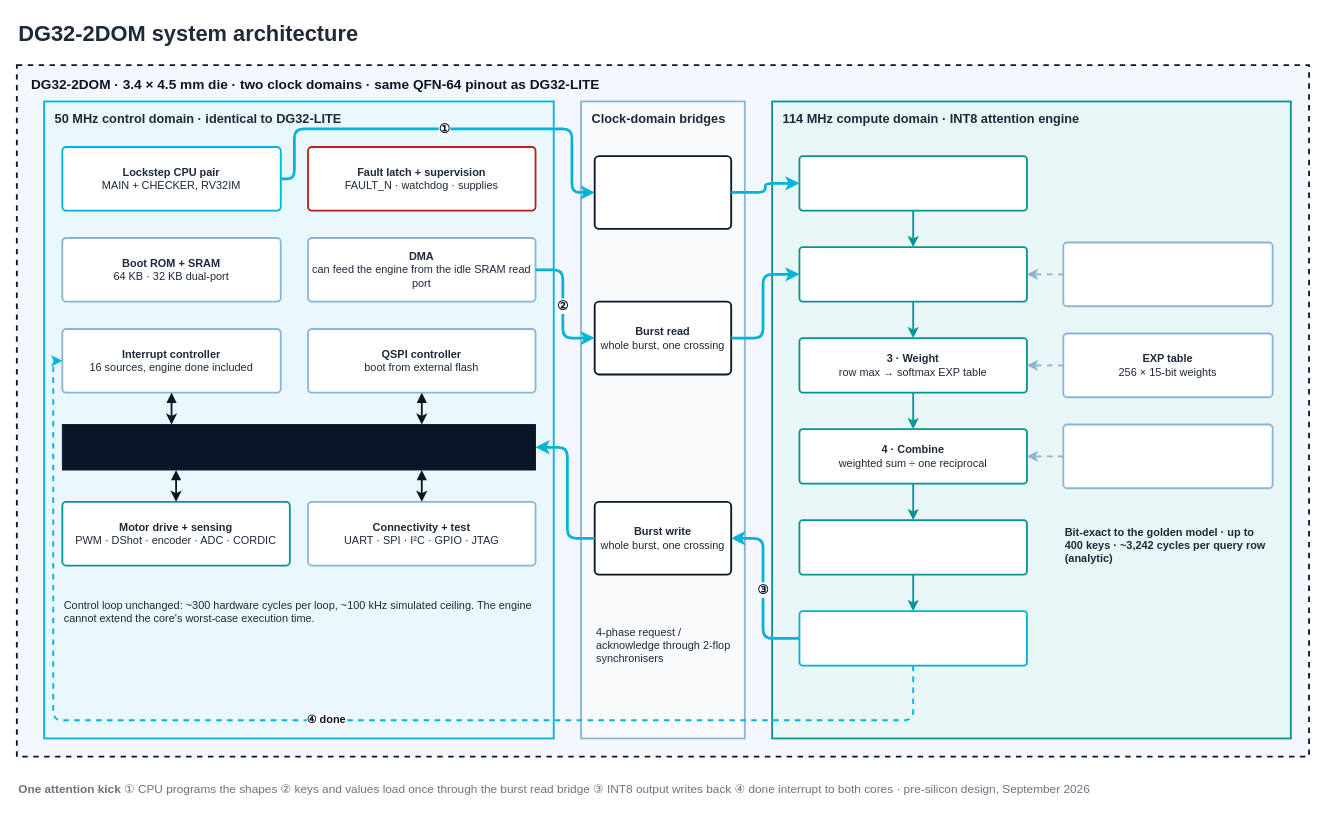
The diagram is 1325 pixels wide and 817 high, and some of its shapes have lost their labels. The centre of each missing label's shape, as x and y in pixels:
1 · Program shapes rows, keys, dimensions: point 912,183
2 · Multiply QKᵀ shared array, 16 lanes: point 912,274
5 · Requantise saturate to INT8: point 912,547
6 · Write back INT8 output to memory: point 912,638
K buffer SRAM macro · loaded once per kick: point 1167,274
Lite bridge programming, one transaction: point 662,192
On-chip bus · bus error, never a hang: point 298,447
V buffer SRAM macro · re-read per row: point 1167,456
